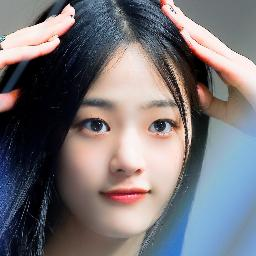face: (70, 54, 190, 236)
